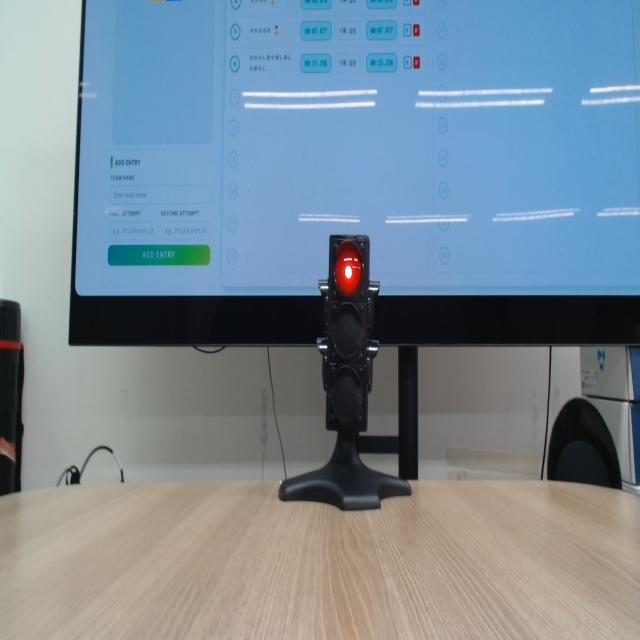red_light: (335, 242, 362, 296)
